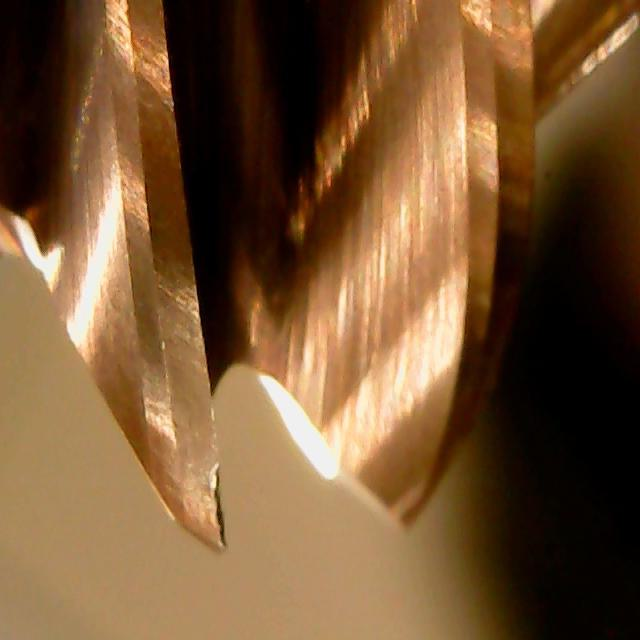Tool-wear-class-1: (138, 313, 234, 556)
